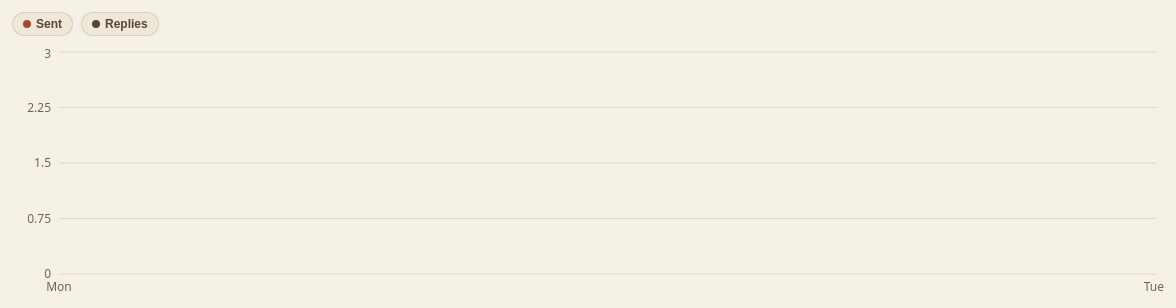
Scenario: Metrics › area chart legend toggles a series
The image size is (1176, 308).
Click the button "Sent" at (42, 24), box [12, 12, 73, 36]
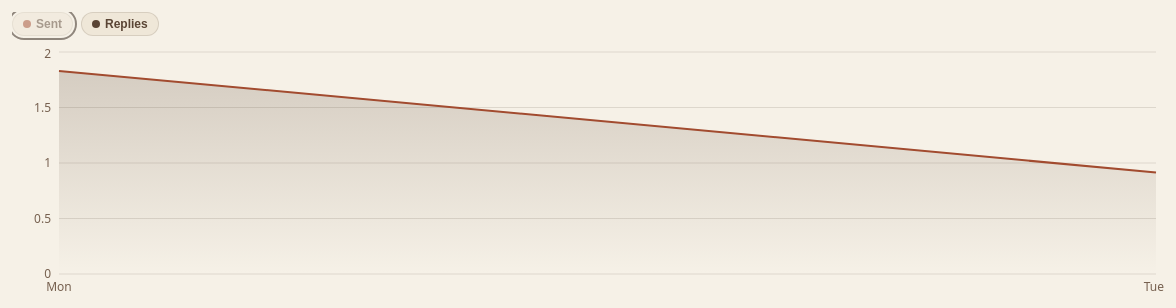
Expected: the button "Sent" is not pressed, [12, 12, 73, 36]
